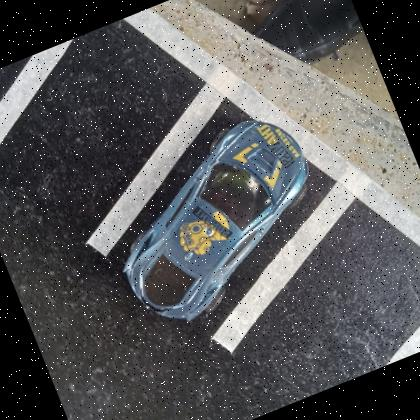Car: (123, 117, 308, 320)
